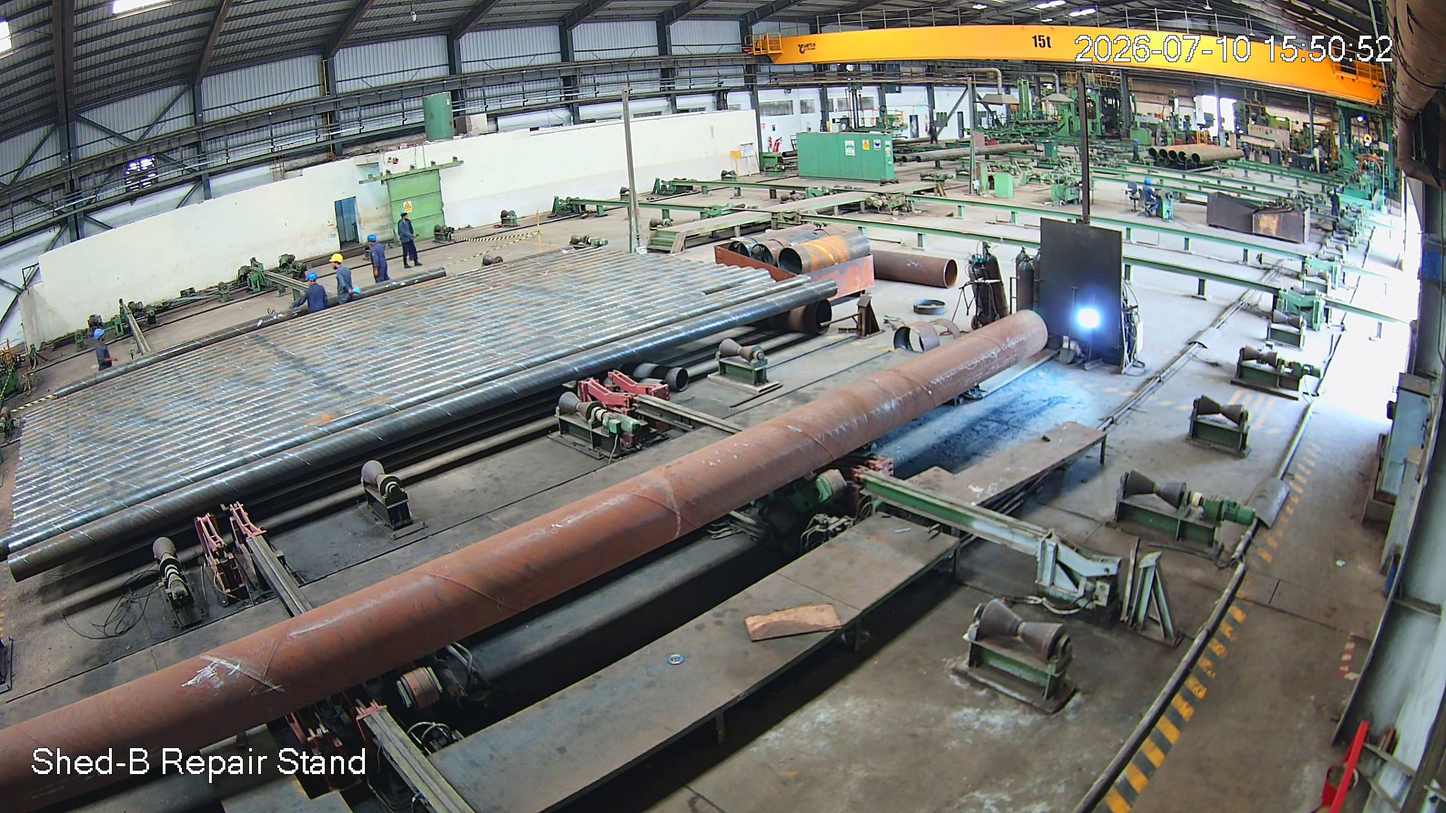Helmet: (329, 249, 346, 275), (304, 272, 326, 292), (93, 326, 113, 346), (368, 232, 380, 250)
Person: (330, 251, 358, 305), (398, 213, 423, 270), (365, 234, 391, 284), (300, 273, 328, 317), (91, 328, 118, 372)
